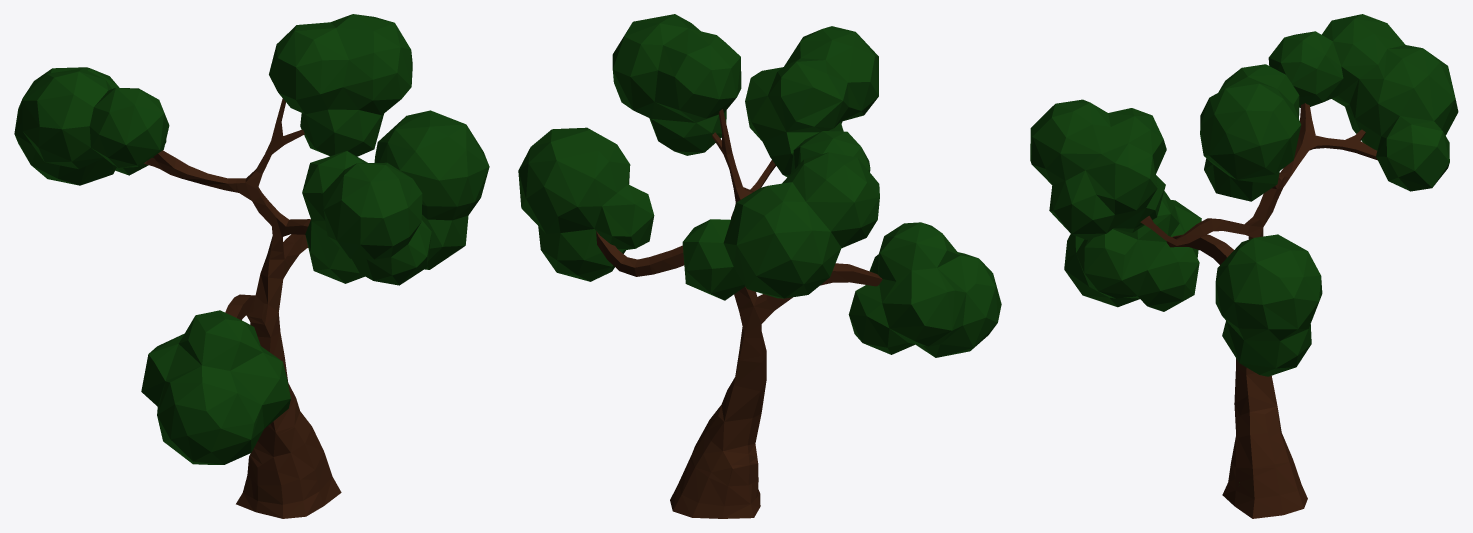
Rendered from Tree4_Destr.FBX.
The picture shows the model from 3 angles, left to right: view 1: azimuth 30°, elevation 25°; view 2: azimuth 150°, elevation 25°; view 3: azimuth 270°, elevation 25°; orthographic projection. The views are drawn at different scales.
Parts seen in each view (by area): view 1: LowPoly_Tree_04_lowpoly_tree_05_Mesh_001_Part_8, LowPoly_Tree_04_lowpoly_tree_05_Mesh_001_Part_7, LowPoly_Tree_04_lowpoly_tree_05_Mesh_001_Part_4, LowPoly_Tree_04_lowpoly_tree_05_Mesh_001_Part_1, LowPoly_Tree_04_lowpoly_tree_05_Mesh_001_Part_9, LowPoly_Tree_04_lowpoly_tree_05_Mesh_001_Part_6, LowPoly_Tree_04_lowpoly_tree_05_Mesh_001_Part_5, LowPoly_Tree_04_lowpoly_tree_05_Mesh_001_Part_19, LowPoly_Tree_04_lowpoly_tree_05_Mesh_001_Part_16, LowPoly_Tree_04_lowpoly_tree_05_Mesh_001_Part_13, LowPoly_Tree_04_lowpoly_tree_05_Mesh_001_Part_15, LowPoly_Tree_04_lowpoly_tree_05_Mesh_001_Part_10_Part_5 (+6 smaller); view 2: LowPoly_Tree_04_lowpoly_tree_05_Mesh_001_Part_8, LowPoly_Tree_04_lowpoly_tree_05_Mesh_001_Part_12, LowPoly_Tree_04_lowpoly_tree_05_Mesh_001_Part_16, LowPoly_Tree_04_lowpoly_tree_05_Mesh_001_Part_2, LowPoly_Tree_04_lowpoly_tree_05_Mesh_001_Part_19, LowPoly_Tree_04_lowpoly_tree_05_Mesh_001_Part_7, LowPoly_Tree_04_lowpoly_tree_05_Mesh_001_Part_10_Part_1, LowPoly_Tree_04_lowpoly_tree_05_Mesh_001_Part_4, LowPoly_Tree_04_lowpoly_tree_05_Mesh_001_Part_9, LowPoly_Tree_04_lowpoly_tree_05_Mesh_001_Part_10_Part_4, LowPoly_Tree_04_lowpoly_tree_05_Mesh_001_Part_20, LowPoly_Tree_04_lowpoly_tree_05_Mesh_001_Part_3 (+6 smaller); view 3: LowPoly_Tree_04_lowpoly_tree_05_Mesh_001_Part_8, LowPoly_Tree_04_lowpoly_tree_05_Mesh_001_Part_16, LowPoly_Tree_04_lowpoly_tree_05_Mesh_001_Part_13, LowPoly_Tree_04_lowpoly_tree_05_Mesh_001_Part_7, LowPoly_Tree_04_lowpoly_tree_05_Mesh_001_Part_2, LowPoly_Tree_04_lowpoly_tree_05_Mesh_001_Part_5, LowPoly_Tree_04_lowpoly_tree_05_Mesh_001_Part_17, LowPoly_Tree_04_lowpoly_tree_05_Mesh_001_Part_20, LowPoly_Tree_04_lowpoly_tree_05_Mesh_001_Part_6, LowPoly_Tree_04_lowpoly_tree_05_Mesh_001_Part_10_Part_2, LowPoly_Tree_04_lowpoly_tree_05_Mesh_001_Part_12, LowPoly_Tree_04_lowpoly_tree_05_Mesh_001_Part_10_Part_1 (+8 smaller).
Boxes of the visible parts, box(x1,y1,x2,y2) form: LowPoly_Tree_04_lowpoly_tree_05_Mesh_001_Part_8: box(374, 110, 489, 269); LowPoly_Tree_04_lowpoly_tree_05_Mesh_001_Part_7: box(273, 14, 412, 116); LowPoly_Tree_04_lowpoly_tree_05_Mesh_001_Part_4: box(236, 58, 376, 263); LowPoly_Tree_04_lowpoly_tree_05_Mesh_001_Part_1: box(186, 351, 290, 464); LowPoly_Tree_04_lowpoly_tree_05_Mesh_001_Part_9: box(314, 163, 390, 276); LowPoly_Tree_04_lowpoly_tree_05_Mesh_001_Part_6: box(71, 87, 169, 166); LowPoly_Tree_04_lowpoly_tree_05_Mesh_001_Part_5: box(37, 71, 236, 192); LowPoly_Tree_04_lowpoly_tree_05_Mesh_001_Part_19: box(141, 339, 219, 464); LowPoly_Tree_04_lowpoly_tree_05_Mesh_001_Part_16: box(154, 294, 289, 409); LowPoly_Tree_04_lowpoly_tree_05_Mesh_001_Part_13: box(373, 162, 431, 285); LowPoly_Tree_04_lowpoly_tree_05_Mesh_001_Part_15: box(254, 221, 380, 311); LowPoly_Tree_04_lowpoly_tree_05_Mesh_001_Part_10_Part_5: box(248, 455, 323, 518); LowPoly_Tree_04_lowpoly_tree_05_Mesh_001_Part_8: box(518, 63, 702, 281); LowPoly_Tree_04_lowpoly_tree_05_Mesh_001_Part_12: box(738, 154, 877, 283); LowPoly_Tree_04_lowpoly_tree_05_Mesh_001_Part_16: box(738, 222, 948, 355); LowPoly_Tree_04_lowpoly_tree_05_Mesh_001_Part_2: box(745, 47, 845, 148); LowPoly_Tree_04_lowpoly_tree_05_Mesh_001_Part_19: box(899, 241, 1001, 357); LowPoly_Tree_04_lowpoly_tree_05_Mesh_001_Part_7: box(612, 14, 740, 91); LowPoly_Tree_04_lowpoly_tree_05_Mesh_001_Part_10_Part_1: box(703, 329, 766, 465); LowPoly_Tree_04_lowpoly_tree_05_Mesh_001_Part_4: box(659, 62, 750, 272); LowPoly_Tree_04_lowpoly_tree_05_Mesh_001_Part_9: box(805, 28, 878, 128); LowPoly_Tree_04_lowpoly_tree_05_Mesh_001_Part_10_Part_4: box(698, 465, 759, 518); LowPoly_Tree_04_lowpoly_tree_05_Mesh_001_Part_20: box(682, 219, 731, 299); LowPoly_Tree_04_lowpoly_tree_05_Mesh_001_Part_3: box(719, 205, 781, 292); LowPoly_Tree_04_lowpoly_tree_05_Mesh_001_Part_8: box(1210, 101, 1322, 376); LowPoly_Tree_04_lowpoly_tree_05_Mesh_001_Part_16: box(1093, 191, 1233, 311); LowPoly_Tree_04_lowpoly_tree_05_Mesh_001_Part_13: box(1030, 110, 1112, 238); LowPoly_Tree_04_lowpoly_tree_05_Mesh_001_Part_7: box(1200, 64, 1299, 167); LowPoly_Tree_04_lowpoly_tree_05_Mesh_001_Part_2: box(1098, 108, 1166, 220); LowPoly_Tree_04_lowpoly_tree_05_Mesh_001_Part_5: box(1279, 16, 1367, 184); LowPoly_Tree_04_lowpoly_tree_05_Mesh_001_Part_17: box(1348, 46, 1407, 151); LowPoly_Tree_04_lowpoly_tree_05_Mesh_001_Part_20: box(1394, 121, 1449, 191); LowPoly_Tree_04_lowpoly_tree_05_Mesh_001_Part_6: box(1268, 20, 1336, 99); LowPoly_Tree_04_lowpoly_tree_05_Mesh_001_Part_10_Part_2: box(1234, 461, 1307, 518); LowPoly_Tree_04_lowpoly_tree_05_Mesh_001_Part_12: box(1351, 14, 1452, 86); LowPoly_Tree_04_lowpoly_tree_05_Mesh_001_Part_10_Part_1: box(1234, 358, 1286, 446).
Bounding box in the file's own units: 9.23 × 10.37 × 9.09.
